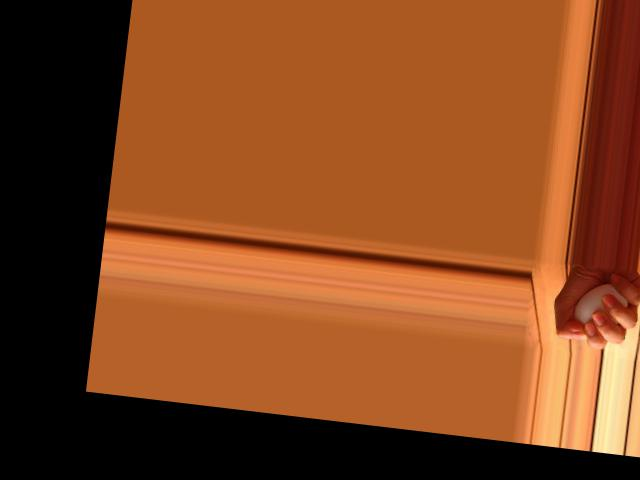egg: (572, 279, 631, 333)
